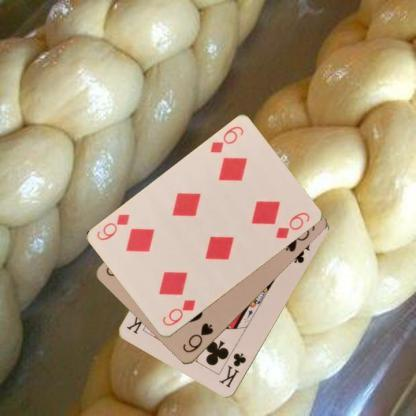6d: (207, 124, 245, 154), (160, 297, 196, 328)
6s: (180, 320, 215, 354)
Kc: (216, 351, 248, 389)
